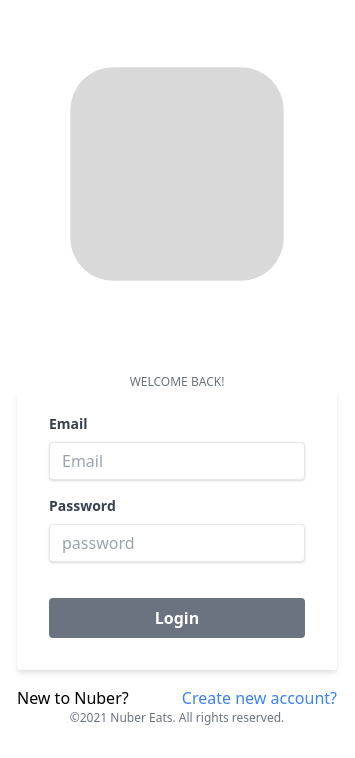
Test: Create Account › Should see email / password validation errors
The image size is (355, 758).
Click the link "Create new account?": (260, 698) 182,686 -> 337,710
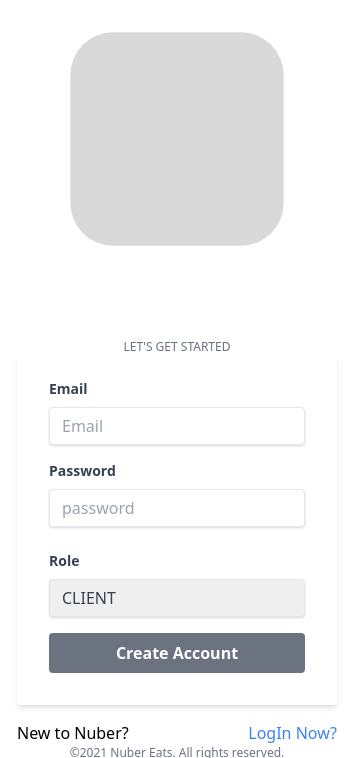
In the field with id "email": (177, 426) 49,407 -> 305,445, type "test@tes"
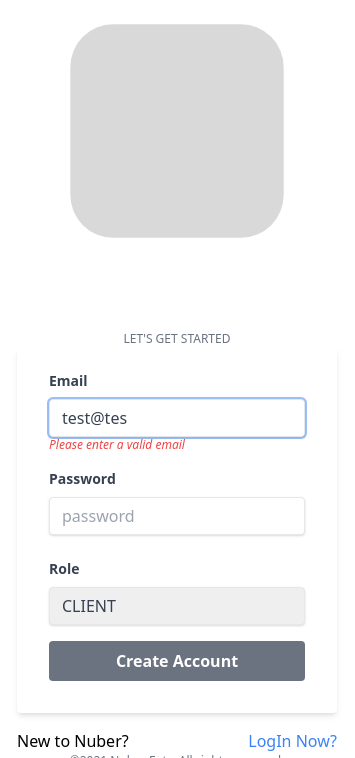
expect the message "Please enter a valid email" is shown: met, box 49,436 -> 185,453
In the password field labelled "Password": (177, 516) 49,497 -> 305,535, type "test"
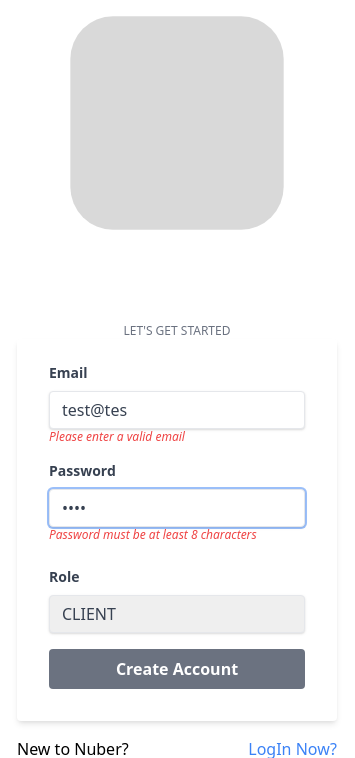
expect the message "Password must be at least 8 characters" is shown: met, box 49,526 -> 257,543
